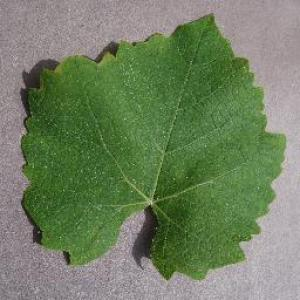Folha: (19, 12, 287, 281)
